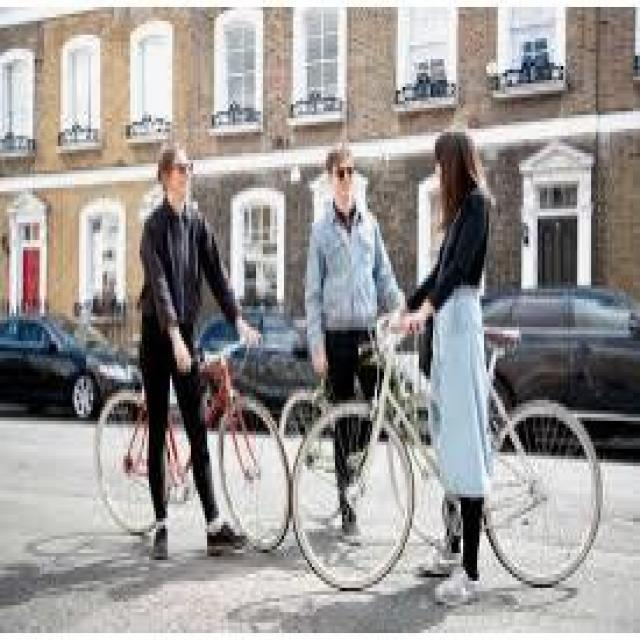bicycle: (292, 311, 611, 596), (99, 332, 292, 551)
